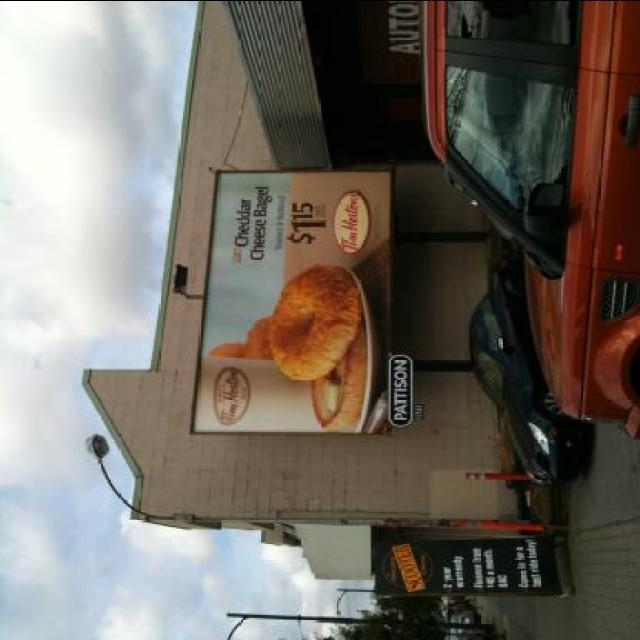Bagel: (266, 264, 364, 382), (309, 328, 377, 430), (245, 318, 277, 360), (210, 340, 244, 358)
